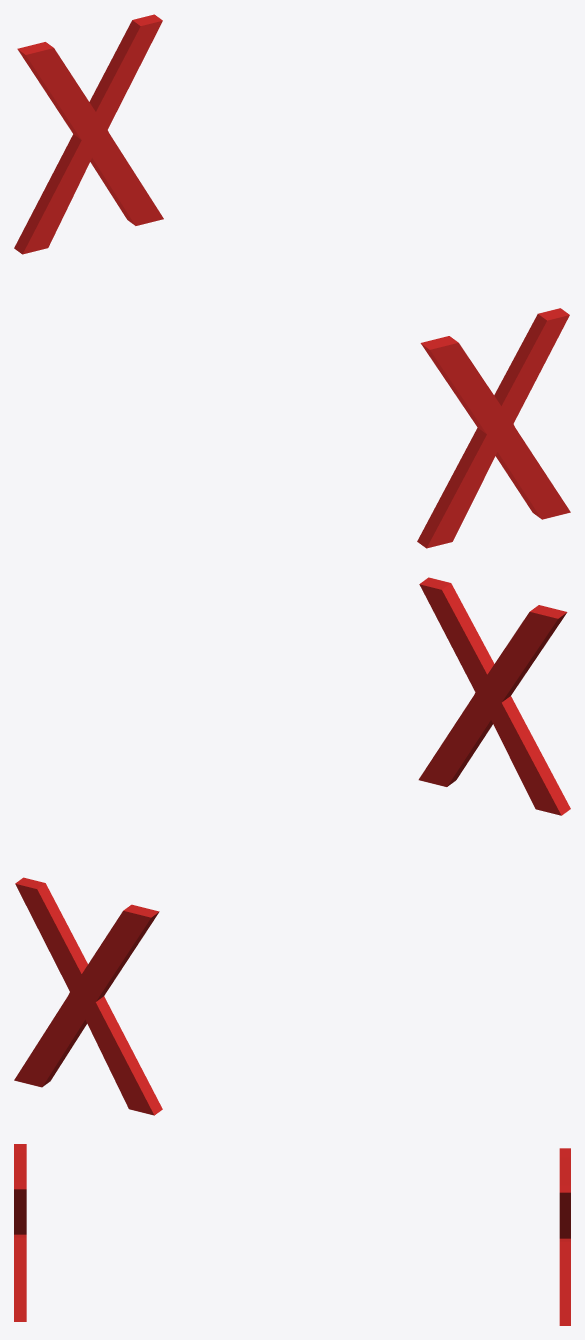
3 views of the same model, one above another, from view 1: azimuth 30°, elevation 25°; view 2: azimuth 150°, elevation 25°; view 3: azimuth 270°, elevation 25° (orthographic). The views are drawn at different scales.
Visible parts, largest first — view 1: instance_0, instance_0001; view 2: instance_0, instance_0001; view 3: instance_0, instance_0001.
Boxes of the visible parts, x1,y1,x2,y2 form: instance_0: [417, 308, 570, 548]; instance_0001: [14, 14, 163, 254]; instance_0: [418, 577, 570, 815]; instance_0001: [14, 877, 162, 1115]; instance_0: [14, 1144, 26, 1321]; instance_0001: [559, 1148, 570, 1325].
Bounding box in the file's own units: 0.5194 × 0.6959 × 2.57.
2 materials, 2 textured.
